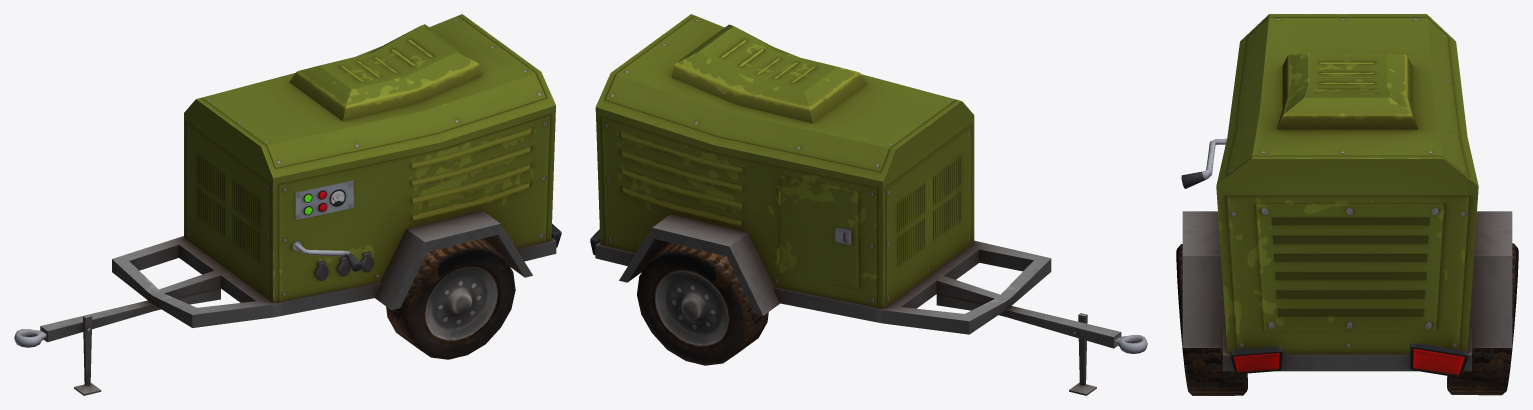
Rendered from TrailerGenerator01_1.FBX.
The picture shows the model from 3 angles, left to right: view 1: azimuth 30°, elevation 25°; view 2: azimuth 150°, elevation 25°; view 3: azimuth 270°, elevation 25°; orthographic projection. The views are drawn at different scales.
Visible parts, largest first — view 1: TrailerGenerator01_1; view 2: TrailerGenerator01_1; view 3: TrailerGenerator01_1.
Boxes of the visible parts, bbox=[...] form: TrailerGenerator01_1: bbox=[14, 14, 561, 395]; TrailerGenerator01_1: bbox=[590, 14, 1147, 395]; TrailerGenerator01_1: bbox=[1176, 14, 1518, 395].
Size of what is drawn, in the model's own units: 3.21 by 1.61 by 1.58.
